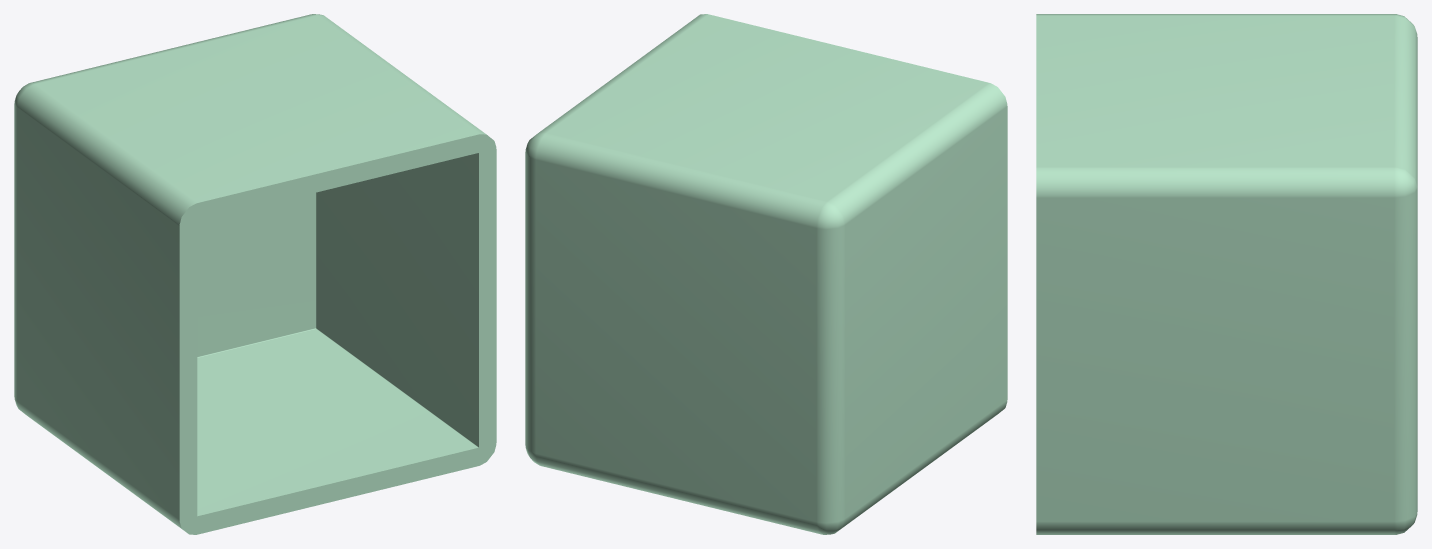
Rendered from lobby.glb.
3 renders of one model, left to right at view 1: azimuth 30°, elevation 25°; view 2: azimuth 150°, elevation 25°; view 3: azimuth 270°, elevation 25°, orthographic. The views are drawn at different scales.
Visible parts, largest first — view 1: Cube.002; view 2: Cube.002; view 3: Cube.002.
Boxes of the visible parts, x1,y1,x2,y2 form: Cube.002: (14,14,496,534); Cube.002: (525,14,1007,534); Cube.002: (1036,14,1417,534).
Bounding box in the file's own units: 4.5 × 4.5 × 4.25.
